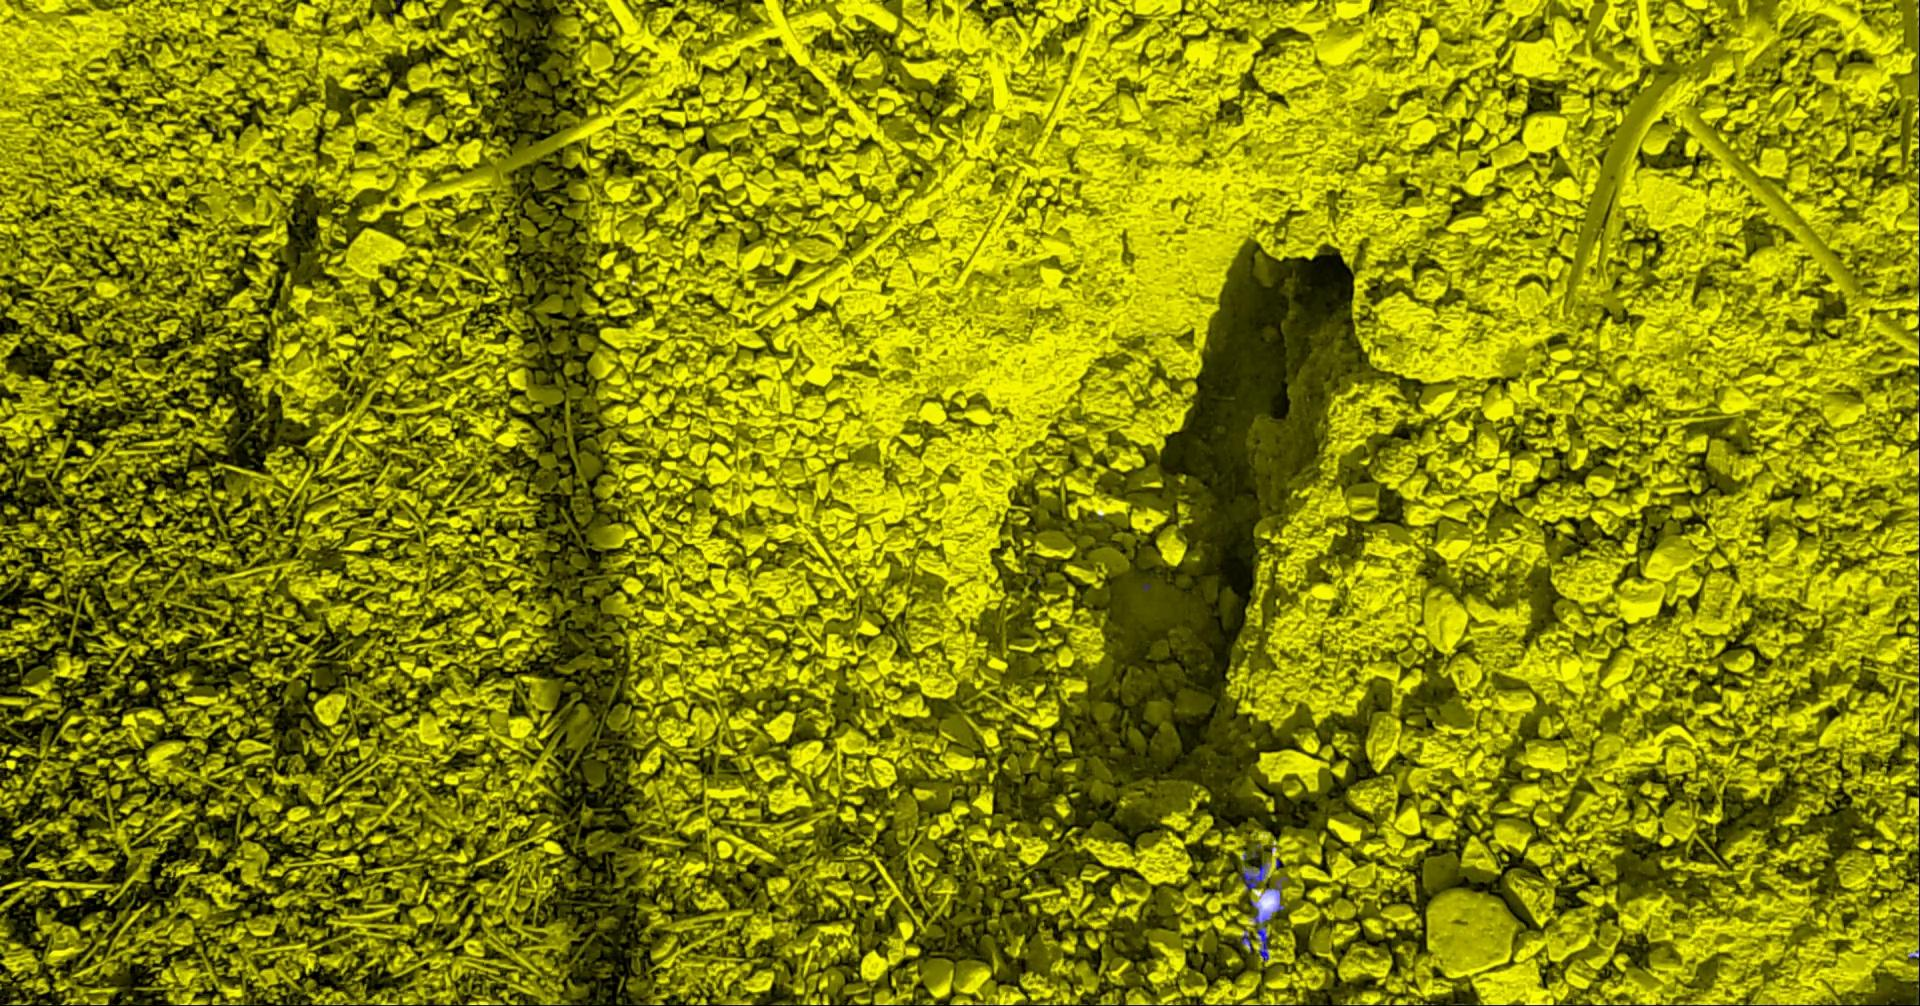ant: (1251, 899, 1274, 962), (1239, 862, 1269, 889), (1241, 929, 1255, 951)
